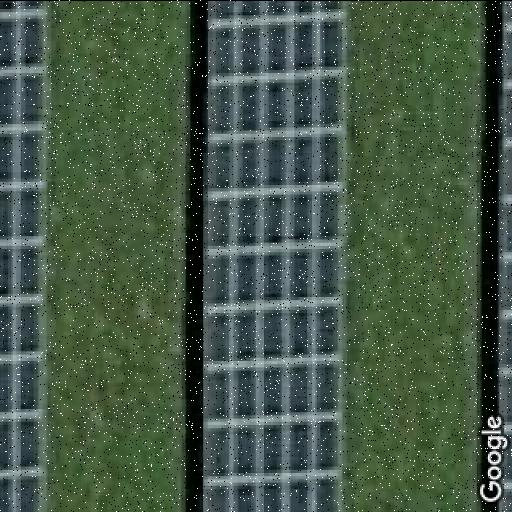solar-panel: (200, 0, 357, 512), (0, 0, 54, 512), (496, 0, 512, 512)
